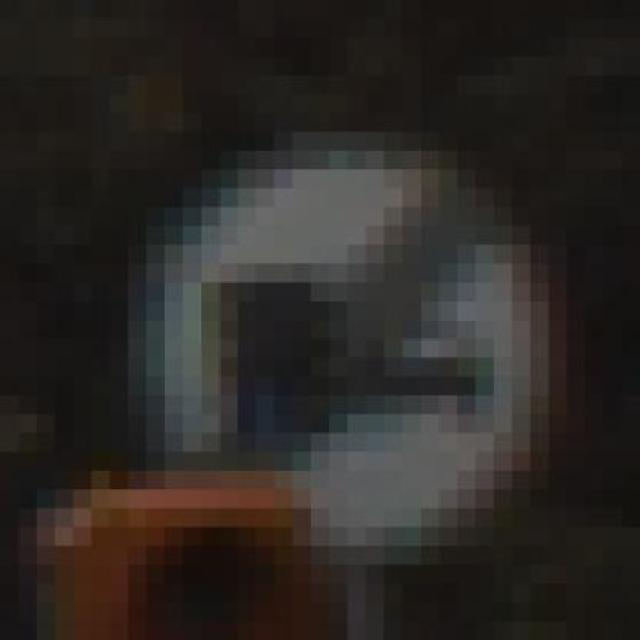Overtaking by trucks is prohibited: (91, 75, 548, 583)
